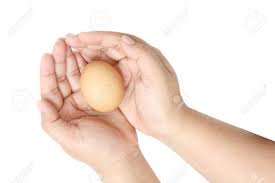egg: (81, 62, 124, 111)
